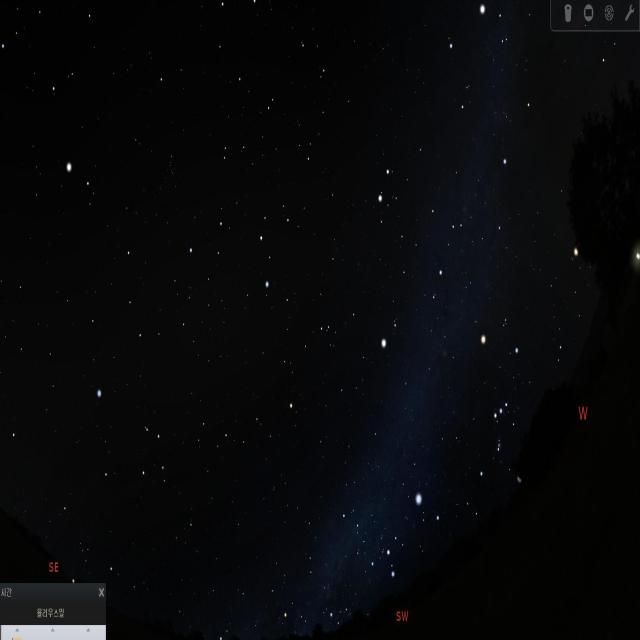bootes: (31, 0, 105, 208)
canis_major: (383, 487, 446, 592)
canis_minor: (377, 316, 408, 357)
gemini: (364, 159, 462, 287)
leo: (179, 200, 299, 314)
orion: (475, 324, 528, 484)
